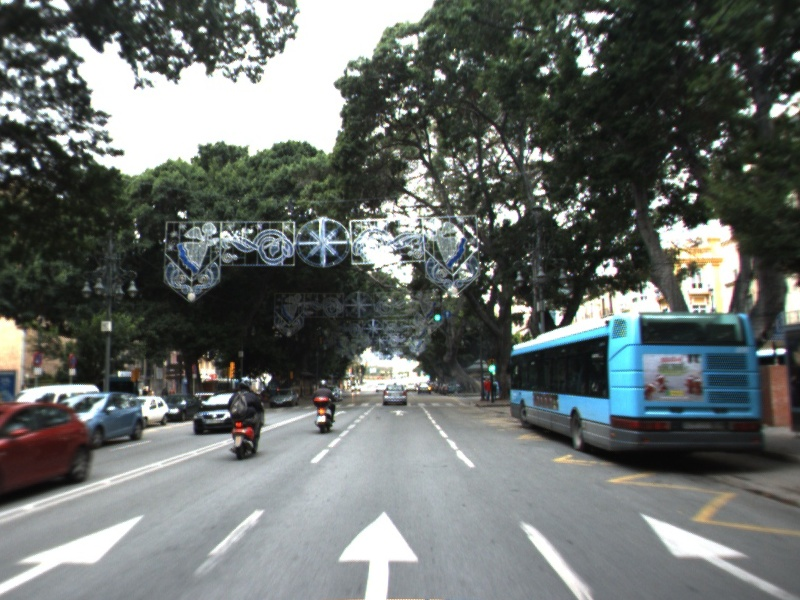STRAIGHT: (636, 511, 799, 600), (1, 511, 148, 597), (333, 507, 422, 600), (389, 408, 410, 417), (332, 409, 348, 418)
